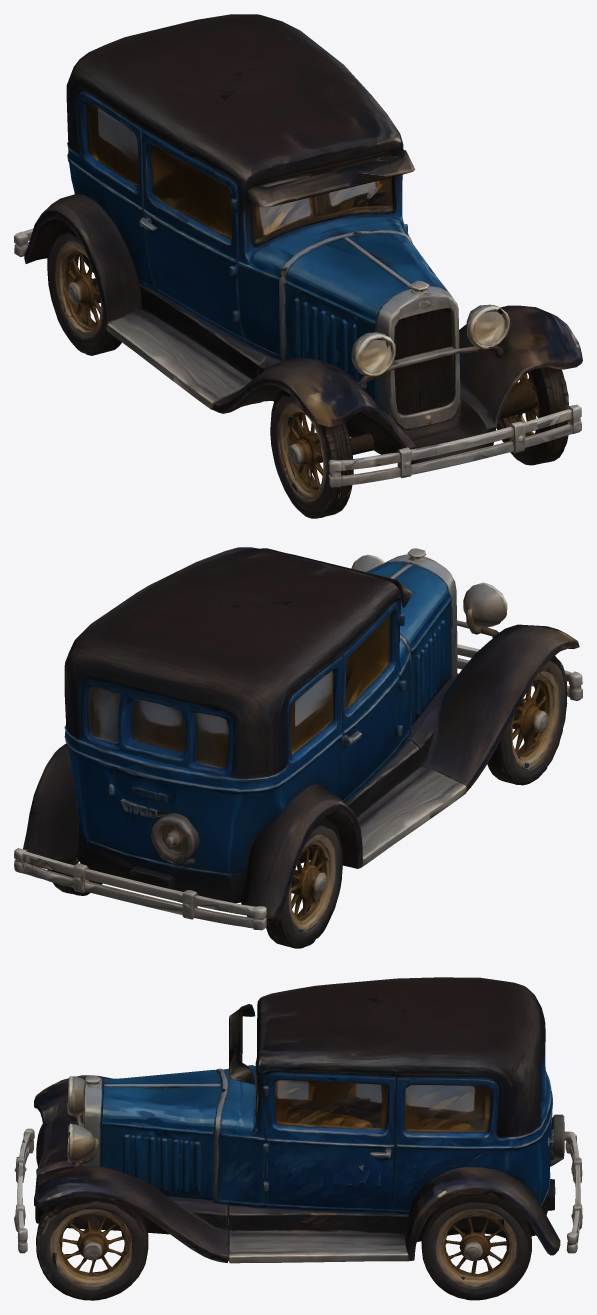
File: chevrolet-coach-blue.glb
3 renders of one model, top to bottom at view 1: azimuth 30°, elevation 25°; view 2: azimuth 150°, elevation 25°; view 3: azimuth 270°, elevation 25°, orthographic. The views are drawn at different scales.
Parts seen in each view (by area): view 1: SM_ChevroletCoachBlue; view 2: SM_ChevroletCoachBlue; view 3: SM_ChevroletCoachBlue.
Part boxes in pixels (<box>): SM_ChevroletCoachBlue: <box>14,14,582,518</box>; SM_ChevroletCoachBlue: <box>14,547,582,948</box>; SM_ChevroletCoachBlue: <box>14,977,582,1300</box>.
Size of the model in its own units: 2.01 by 1.98 by 4.2.
1 material, 1 textured.
